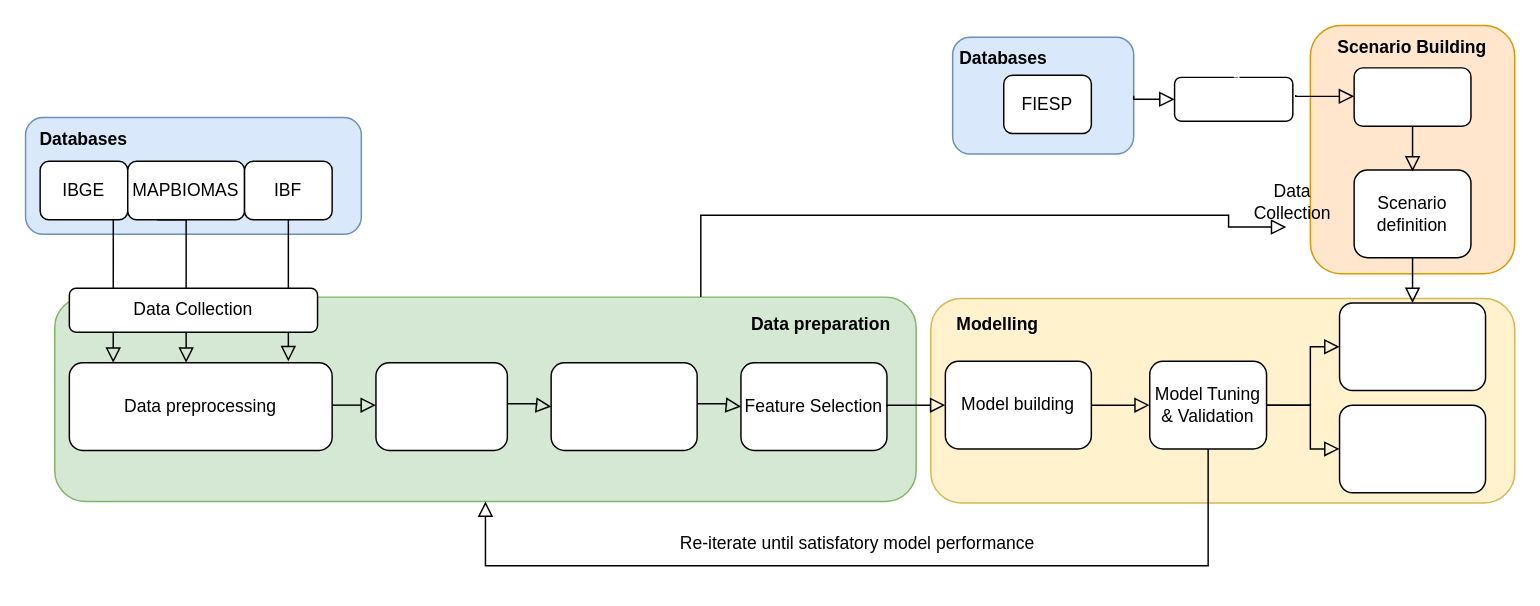
This 1540x606 diagram has some shape labels left out. Here are the shapes that lost their labels. From the top down, the box of each, then its label:
(1353, 66, 1471, 126): Feature projections
(1338, 301, 1486, 391): Model Forecasting
(374, 361, 507, 450): Exploratory Data Analysis
(550, 361, 697, 450): Feature Engineering
(1338, 404, 1486, 493): Model Interpretation
